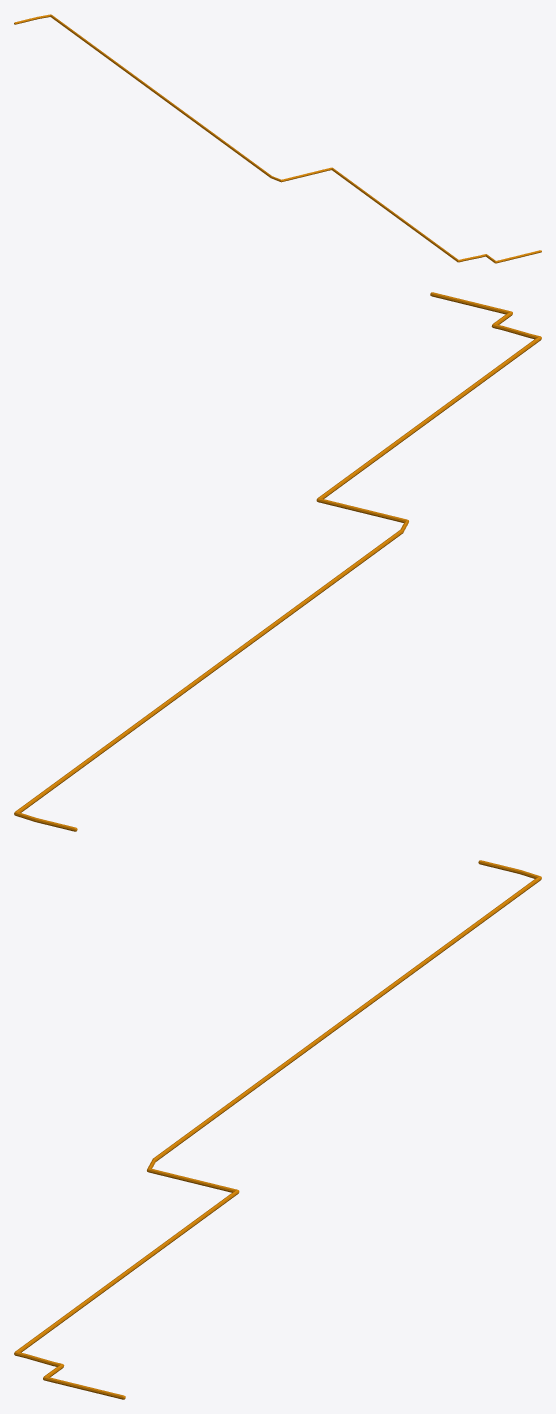
3 renders of one model, top to bottom at view 1: azimuth 30°, elevation 25°; view 2: azimuth 150°, elevation 25°; view 3: azimuth 330°, elevation 25°, orthographic. The views are drawn at different scales.
Size of the model in its own units: 1450 by 20 by 5644.
